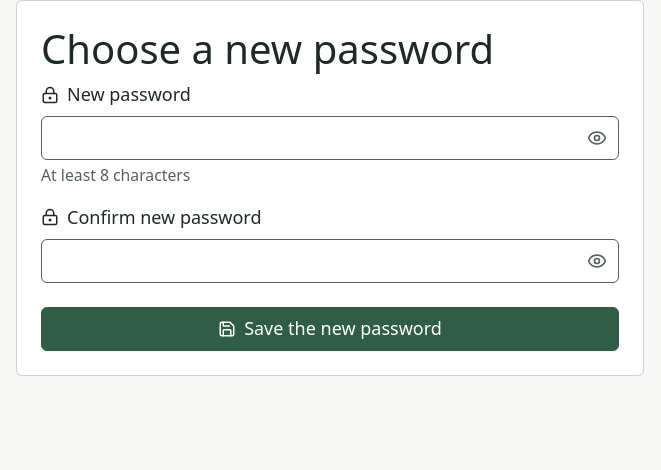
Test: ResetPasswordPage › server answers › a server error: an alert with the focus; the form stays and can be sent again
Step 1. Type "my-own-secret-pw" into the password field labelled "New password" → (330, 138), box [41,116,619,160]
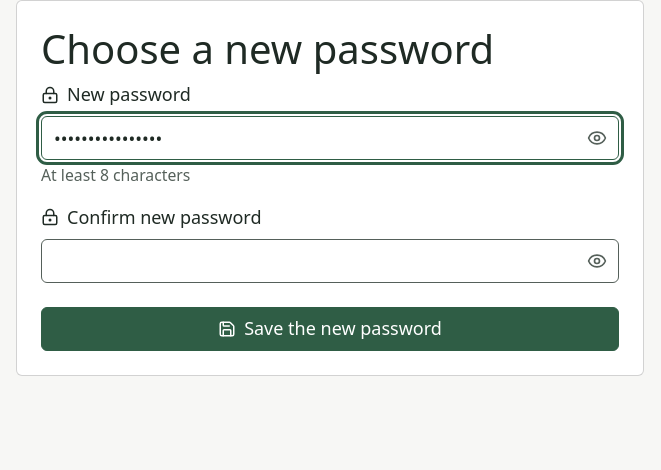
Step 2. Type "my-own-secret-pw" into the password field labelled "Confirm new password" → (330, 261), box [41,239,619,283]
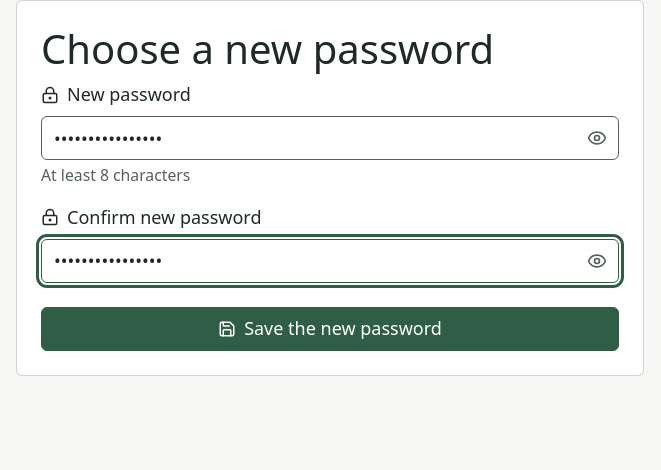
Step 3. Click the button "Save the new password" → (330, 329), box [41,307,619,351]
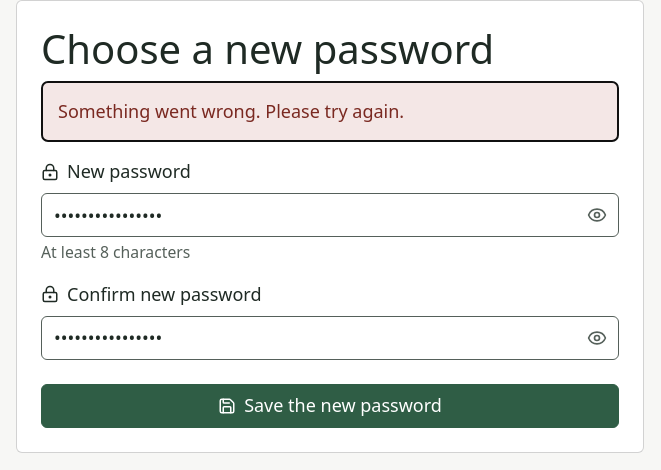
expect the message reads "Something went wrong. Please try again.": met, box [58,99,404,123]
Step 4. Click the button "Save the new password" → (330, 406), box [41,384,619,428]
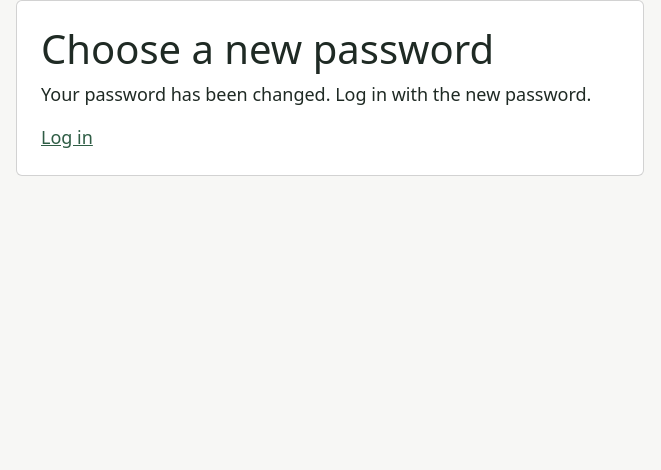
expect the link "Log in" is shown: met, box [41,125,93,149]
